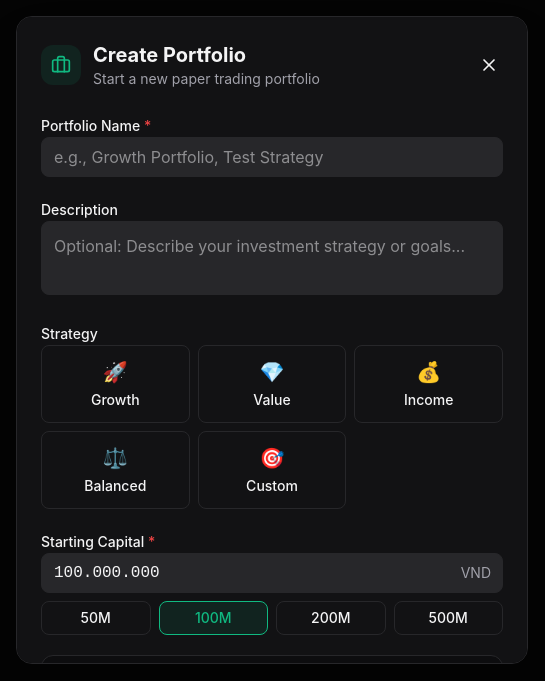
Test: CreatePortfolioDialog › shows validation error when name already exists
Type "Main Portfolio" into the field with placeholder "e.g., Growth Portfolio, Test Strategy" at (272, 157), box [41,137,503,177]
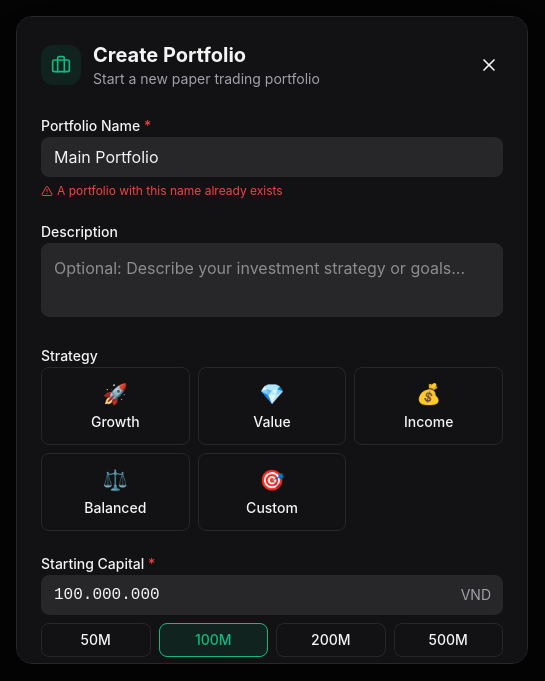
Result: the text "A portfolio with this name already exists" is shown at [41,183,283,198]
